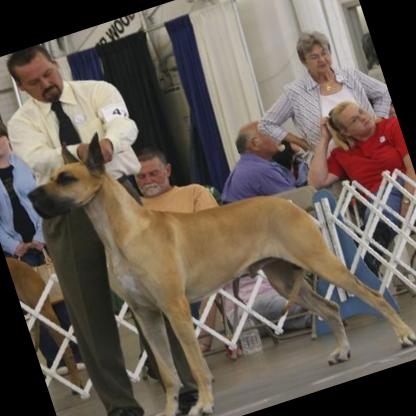Great_Dane: (13, 57, 416, 416)
